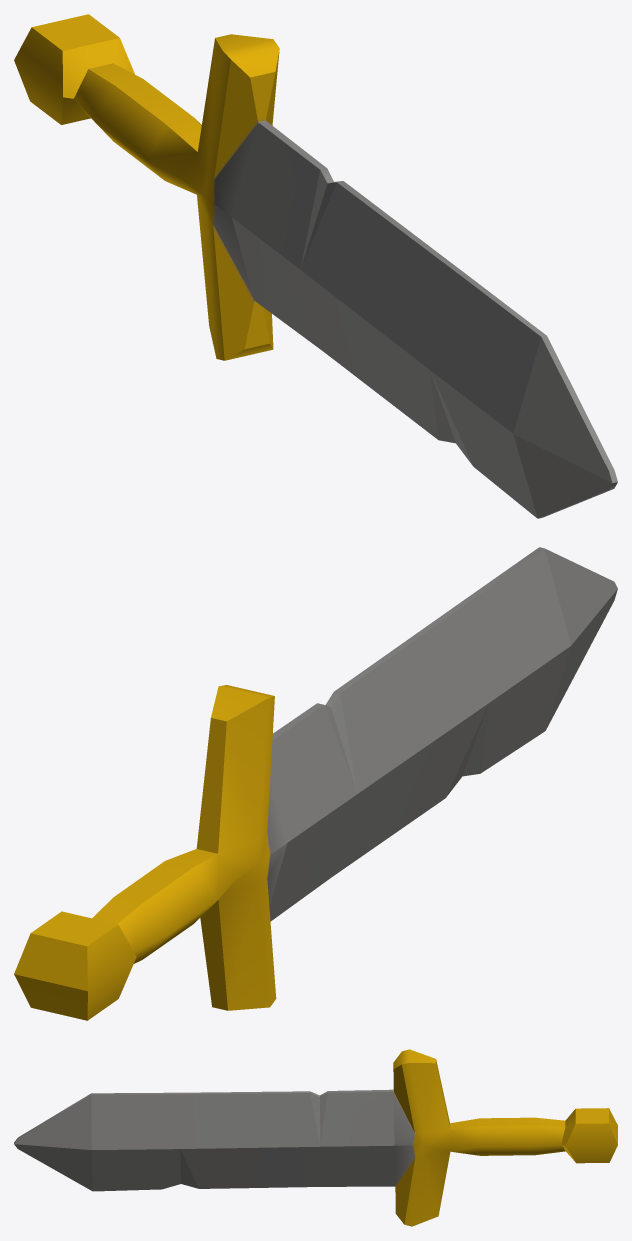
The model's file is Sword (1).fbx.
The picture shows the model from 3 angles, top to bottom: view 1: azimuth 30°, elevation 25°; view 2: azimuth 150°, elevation 25°; view 3: azimuth 270°, elevation 25°; orthographic projection. The views are drawn at different scales.
Visible parts, largest first — view 1: sword; view 2: sword; view 3: sword.
Boxes of the visible parts, x1,y1,x2,y2 form: sword: [14, 14, 617, 518]; sword: [14, 547, 617, 1020]; sword: [14, 1049, 617, 1226].
Bounding box in the file's own units: 161 × 634 × 2102.
